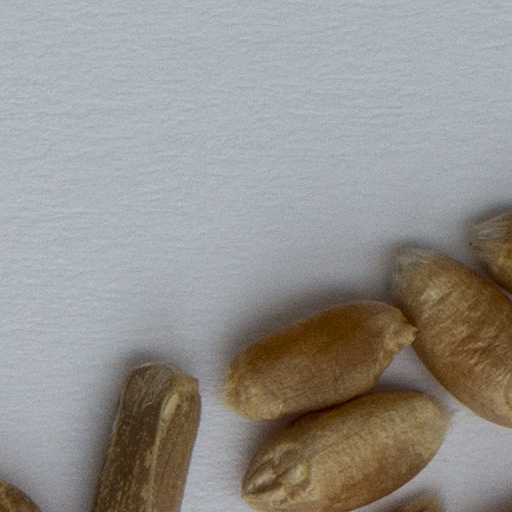Peel-poly: (95, 362, 200, 511)
